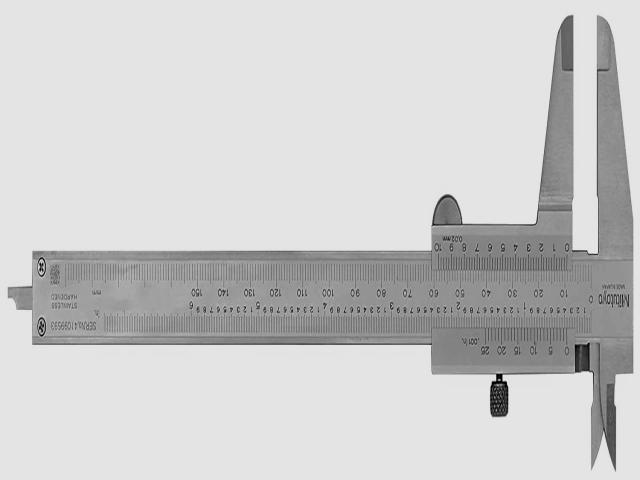Calipers: (10, 17, 634, 463)
